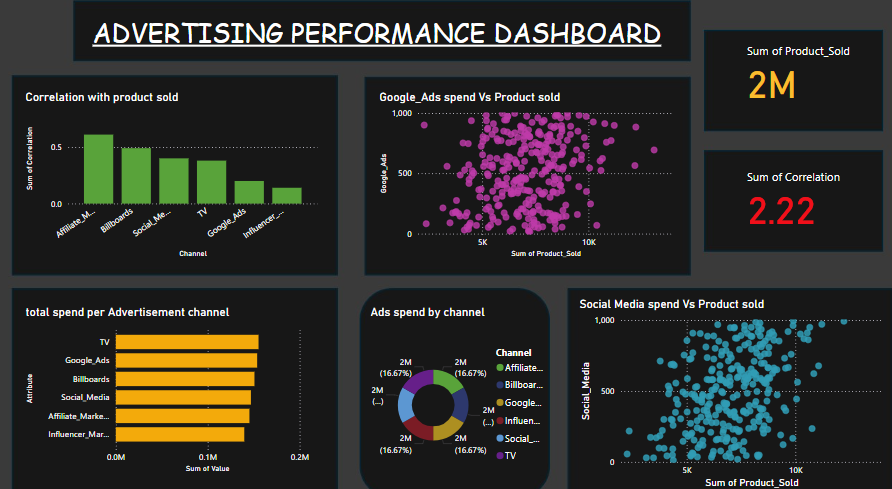

This screenshot's page, from the dashboard's own definition file:
{"tool":"powerbi","page":{"name":"Page 2","canvas":[1280,720],"ordinal":1},"visuals":[{"type":"columnChart","title":" Correlation with product sold","fields":{"Category":["CorrelationData.Channel"],"Y":["Sum(CorrelationData.Correlation)"]},"box":[35.7,130,427.1,244.3],"z":0},{"type":"clusteredBarChart","title":"total spend per Advertisement channel","fields":{"Category":["Advertising_Data.Attribute"],"Y":["Sum(Advertising_Data.Value)"]},"box":[35.7,437.1,415.7,244.3],"z":1},{"type":"scatterChart","title":" Google_Ads spend Vs Product sold","fields":{"X":["Sum(Advertising_Data (2).Product_Sold)"],"Y":["Advertising_Data (2).Google_Ads"]},"box":[541.4,130,440,244.3],"z":2},{"type":"scatterChart","title":"Social Media spend Vs Product sold","fields":{"X":["Sum(Advertising_Data (2).Product_Sold)"],"Y":["Advertising_Data (2).Social_Media"]},"box":[827.1,425.7,452.9,278.6],"z":3},{"type":"donutChart","title":"Ads spend by channel","fields":{"Category":["CorrelationData.Channel"],"Y":["Sum(Advertising_Data (2).Product_Sold)"]},"box":[528.6,437.1,267.1,267.1],"z":4},{"type":"cardVisual","fields":{"Data":["Sum(CorrelationData.Correlation)"]},"box":[1054.3,225.7,225.7,117.1],"z":5},{"type":"cardVisual","fields":{"Data":["Sum(Advertising_Data (2).Product_Sold)"]},"box":[1054.3,32.9,225.7,150],"z":6},{"type":"textbox","box":[131.4,17.1,878.6,91.4],"z":7}]}

Visuals, with their boxes in screenshot pixels (x1, y1, x2, y2), scaled from the page's 1280x720 canvas onto the 892x489 screenshot:
" Correlation with product sold" columnChart: <box>25,88,323,254</box>
"total spend per Advertisement channel" clusteredBarChart: <box>25,297,315,463</box>
" Google_Ads spend Vs Product sold" scatterChart: <box>377,88,684,254</box>
"Social Media spend Vs Product sold" scatterChart: <box>576,289,891,478</box>
"Ads spend by channel" donutChart: <box>368,297,555,478</box>
cardVisual - Sum(CorrelationData.Correlation): <box>735,153,891,233</box>
cardVisual - Sum(Advertising_Data (2).Product_Sold): <box>735,22,891,124</box>
textbox: <box>92,12,704,74</box>
